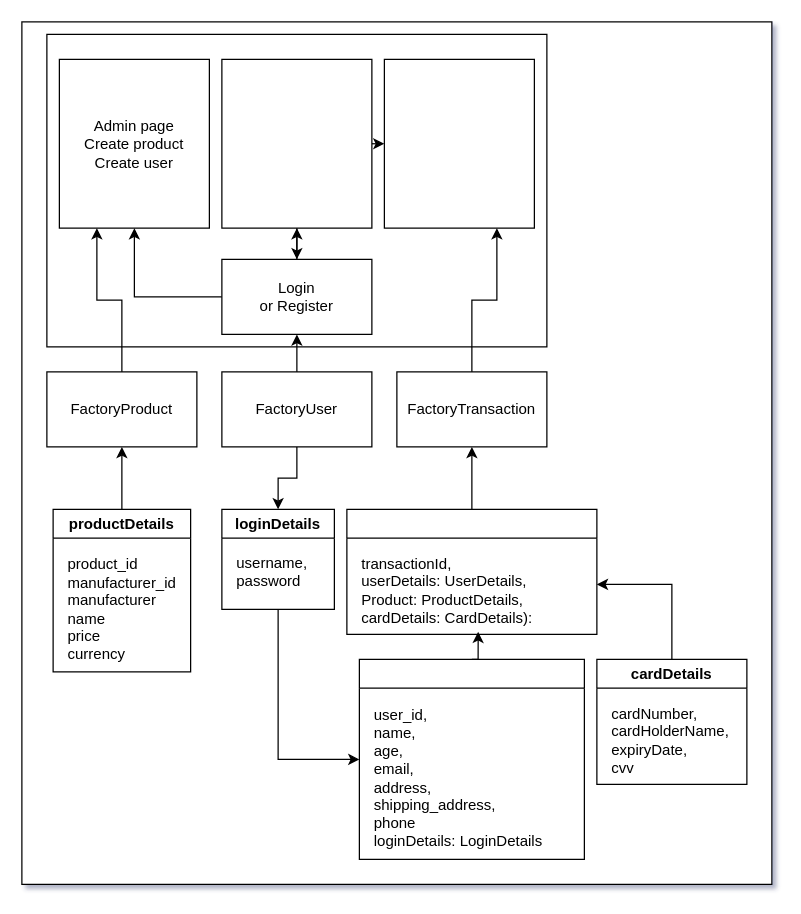
Some shapes in this 801 by 914 pixel diagram are drawn without their labels. The box of each missing label's shape, as (x1, y1, x2, y2) in pixels:
Product page List products: (221, 58, 372, 228)
Transaction page Create transaction: (383, 58, 534, 228)
transactionDetails: (346, 508, 597, 634)
userDetails: (358, 658, 584, 859)
